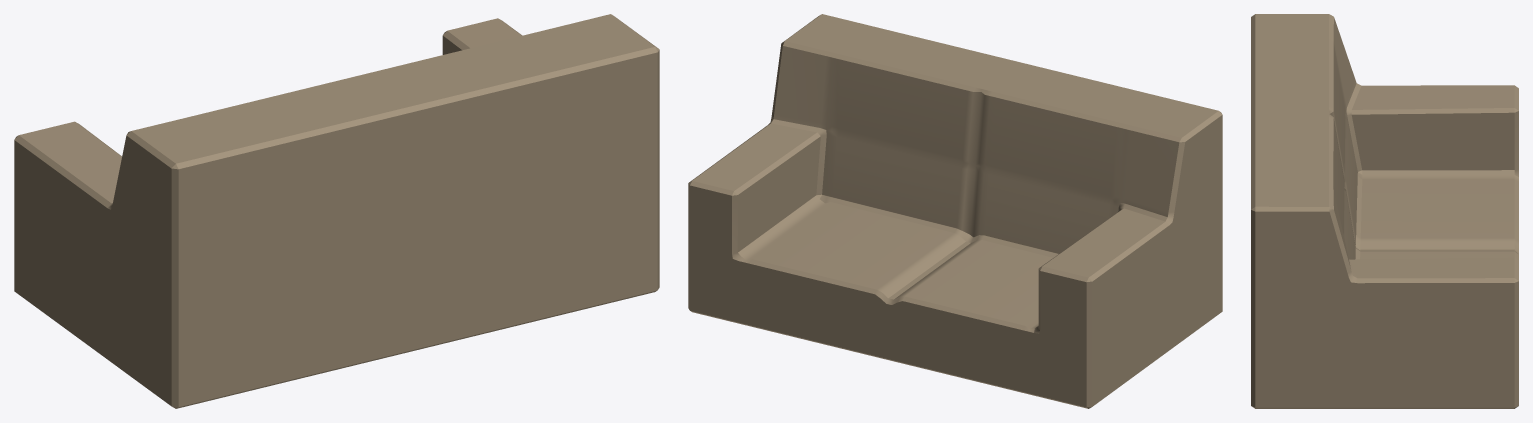
The model's file is Sofa.fbx.
3 views of the same model, side by side, from view 1: azimuth 30°, elevation 25°; view 2: azimuth 150°, elevation 25°; view 3: azimuth 270°, elevation 25° (orthographic). The views are drawn at different scales.
Visible parts, largest first — view 1: pCube1; view 2: pCube1; view 3: pCube1.
Part boxes in pixels (box(x1,y1,x2,y2)): pCube1: box(14, 14, 659, 408); pCube1: box(688, 14, 1222, 408); pCube1: box(1251, 14, 1518, 408).
Size of the model in its own units: 8 by 3.84 by 4.61.
